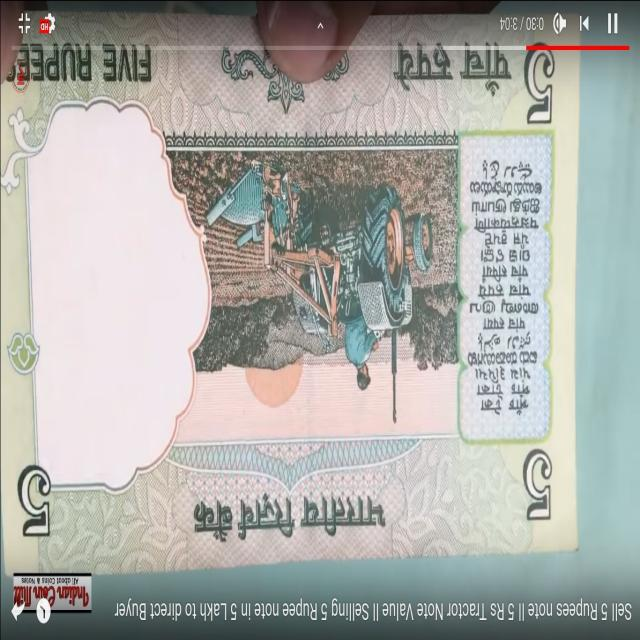5IndianRupees: (2, 20, 576, 554)
